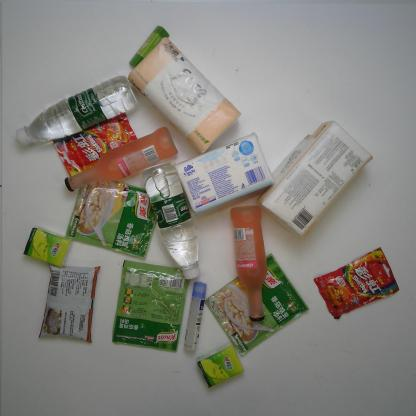Alcohol: (60, 124, 184, 192), (229, 206, 284, 319)
Candy: (312, 247, 408, 332), (52, 115, 138, 177)
Drink: (139, 168, 226, 288), (15, 80, 142, 156)
Seasoner: (206, 250, 308, 362), (65, 178, 168, 261), (110, 259, 190, 359), (39, 264, 104, 345)
Stationery: (125, 23, 176, 80), (182, 282, 212, 358)
Tissue: (261, 122, 386, 244), (129, 40, 240, 152), (169, 134, 286, 214), (198, 346, 254, 392), (24, 227, 80, 272)
